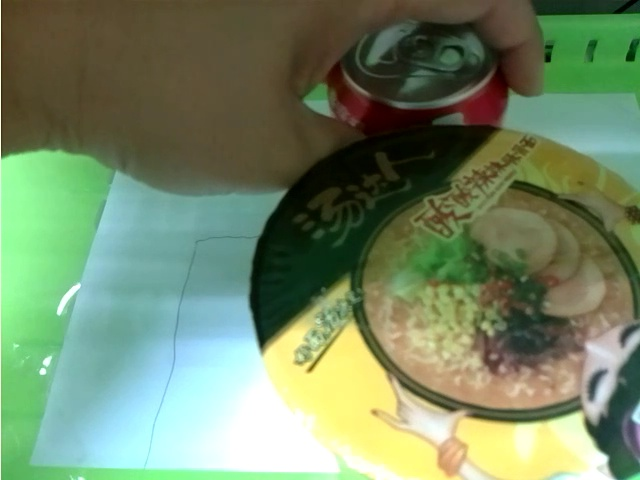cocacola: (336, 30, 512, 137)
hand: (1, 1, 555, 187)
noodles: (247, 118, 640, 480)
